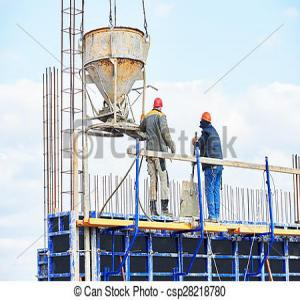red: (154, 98, 164, 112)
yellow: (201, 112, 212, 128)
